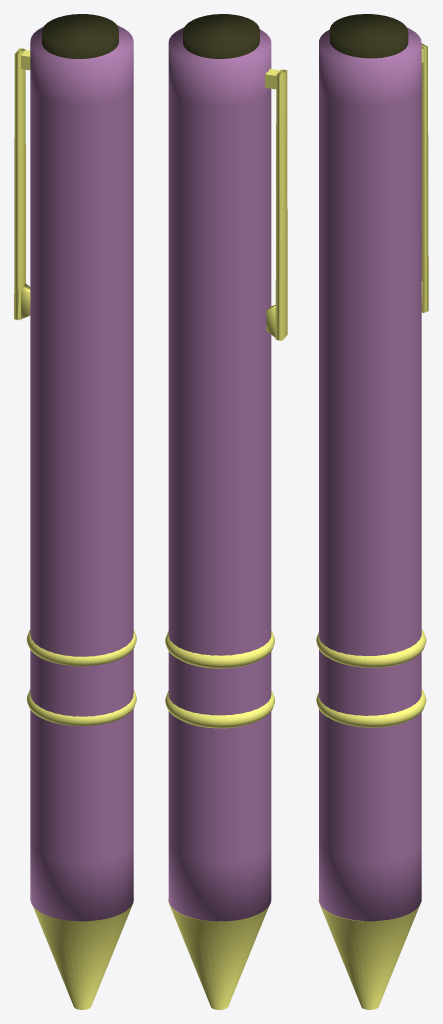
The model's file is caneta.glb.
The picture shows the model from 3 angles, left to right: view 1: azimuth 30°, elevation 25°; view 2: azimuth 210°, elevation 25°; view 3: azimuth 270°, elevation 25°; orthographic projection.
Parts seen in each view (by area): view 1: Cylinder, Cylinder.001, Cube, Cylinder.003, Torus.001, Torus, Cube.002; view 2: Cylinder, Cylinder.001, Cube, Cylinder.003, Torus.001, Torus; view 3: Cylinder, Cylinder.001, Cylinder.003, Cube, Torus, Torus.001.
Boxes of the visible parts, left/top/right/bottom form: Cylinder: left=30, top=25, right=133, bottom=921; Cylinder.001: left=33, top=898, right=133, bottom=1009; Cube: left=14, top=48, right=25, bottom=320; Cylinder.003: left=42, top=14, right=118, bottom=58; Torus.001: left=27, top=629, right=136, bottom=666; Torus: left=27, top=689, right=136, bottom=725; Cube.002: left=17, top=283, right=30, bottom=320; Cylinder: left=168, top=27, right=271, bottom=921; Cylinder.001: left=168, top=898, right=268, bottom=1009; Cube: left=275, top=69, right=287, bottom=340; Cylinder.003: left=183, top=14, right=259, bottom=58; Torus.001: left=165, top=631, right=274, bottom=668; Torus: left=165, top=690, right=274, bottom=728; Cylinder: left=319, top=27, right=421, bottom=921; Cylinder.001: left=318, top=898, right=419, bottom=1009; Cylinder.003: left=330, top=14, right=408, bottom=58; Cube: left=421, top=43, right=428, bottom=312; Torus: left=316, top=689, right=426, bottom=727; Torus.001: left=316, top=629, right=426, bottom=667.
Bounding box in the file's own units: 0.2136 × 2.09 × 0.2179.
